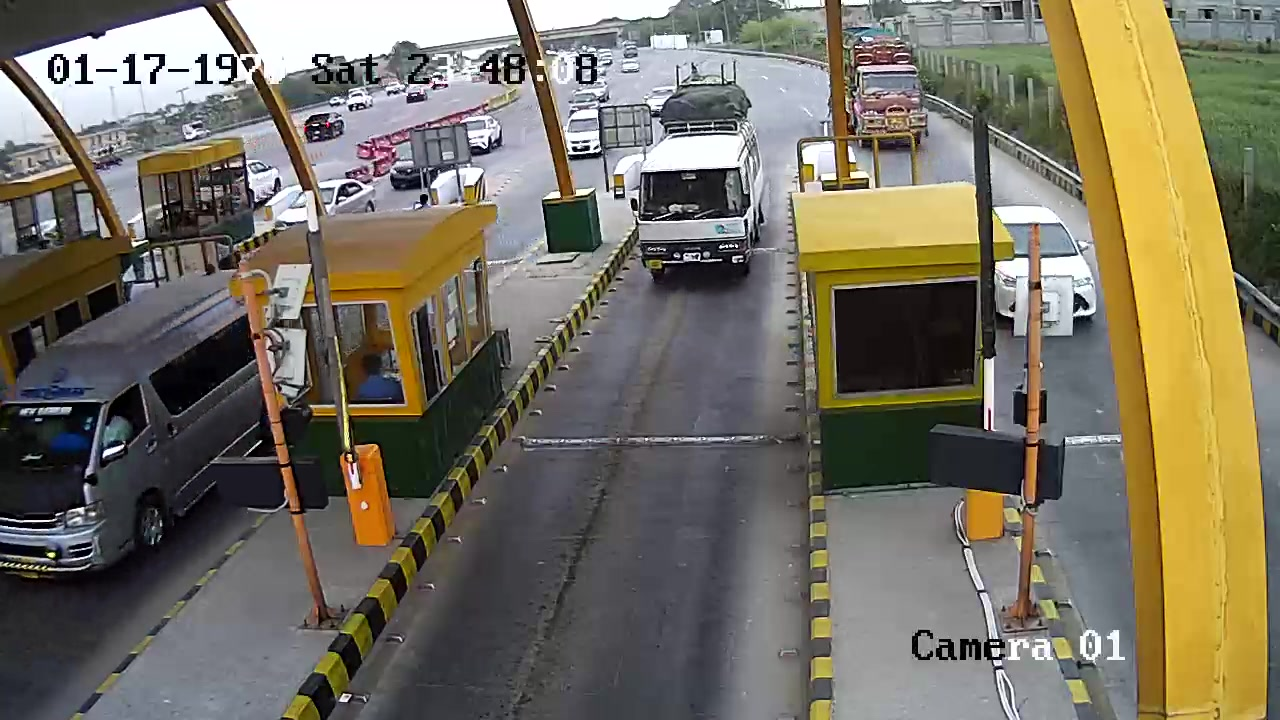F3: (629, 61, 778, 287)
